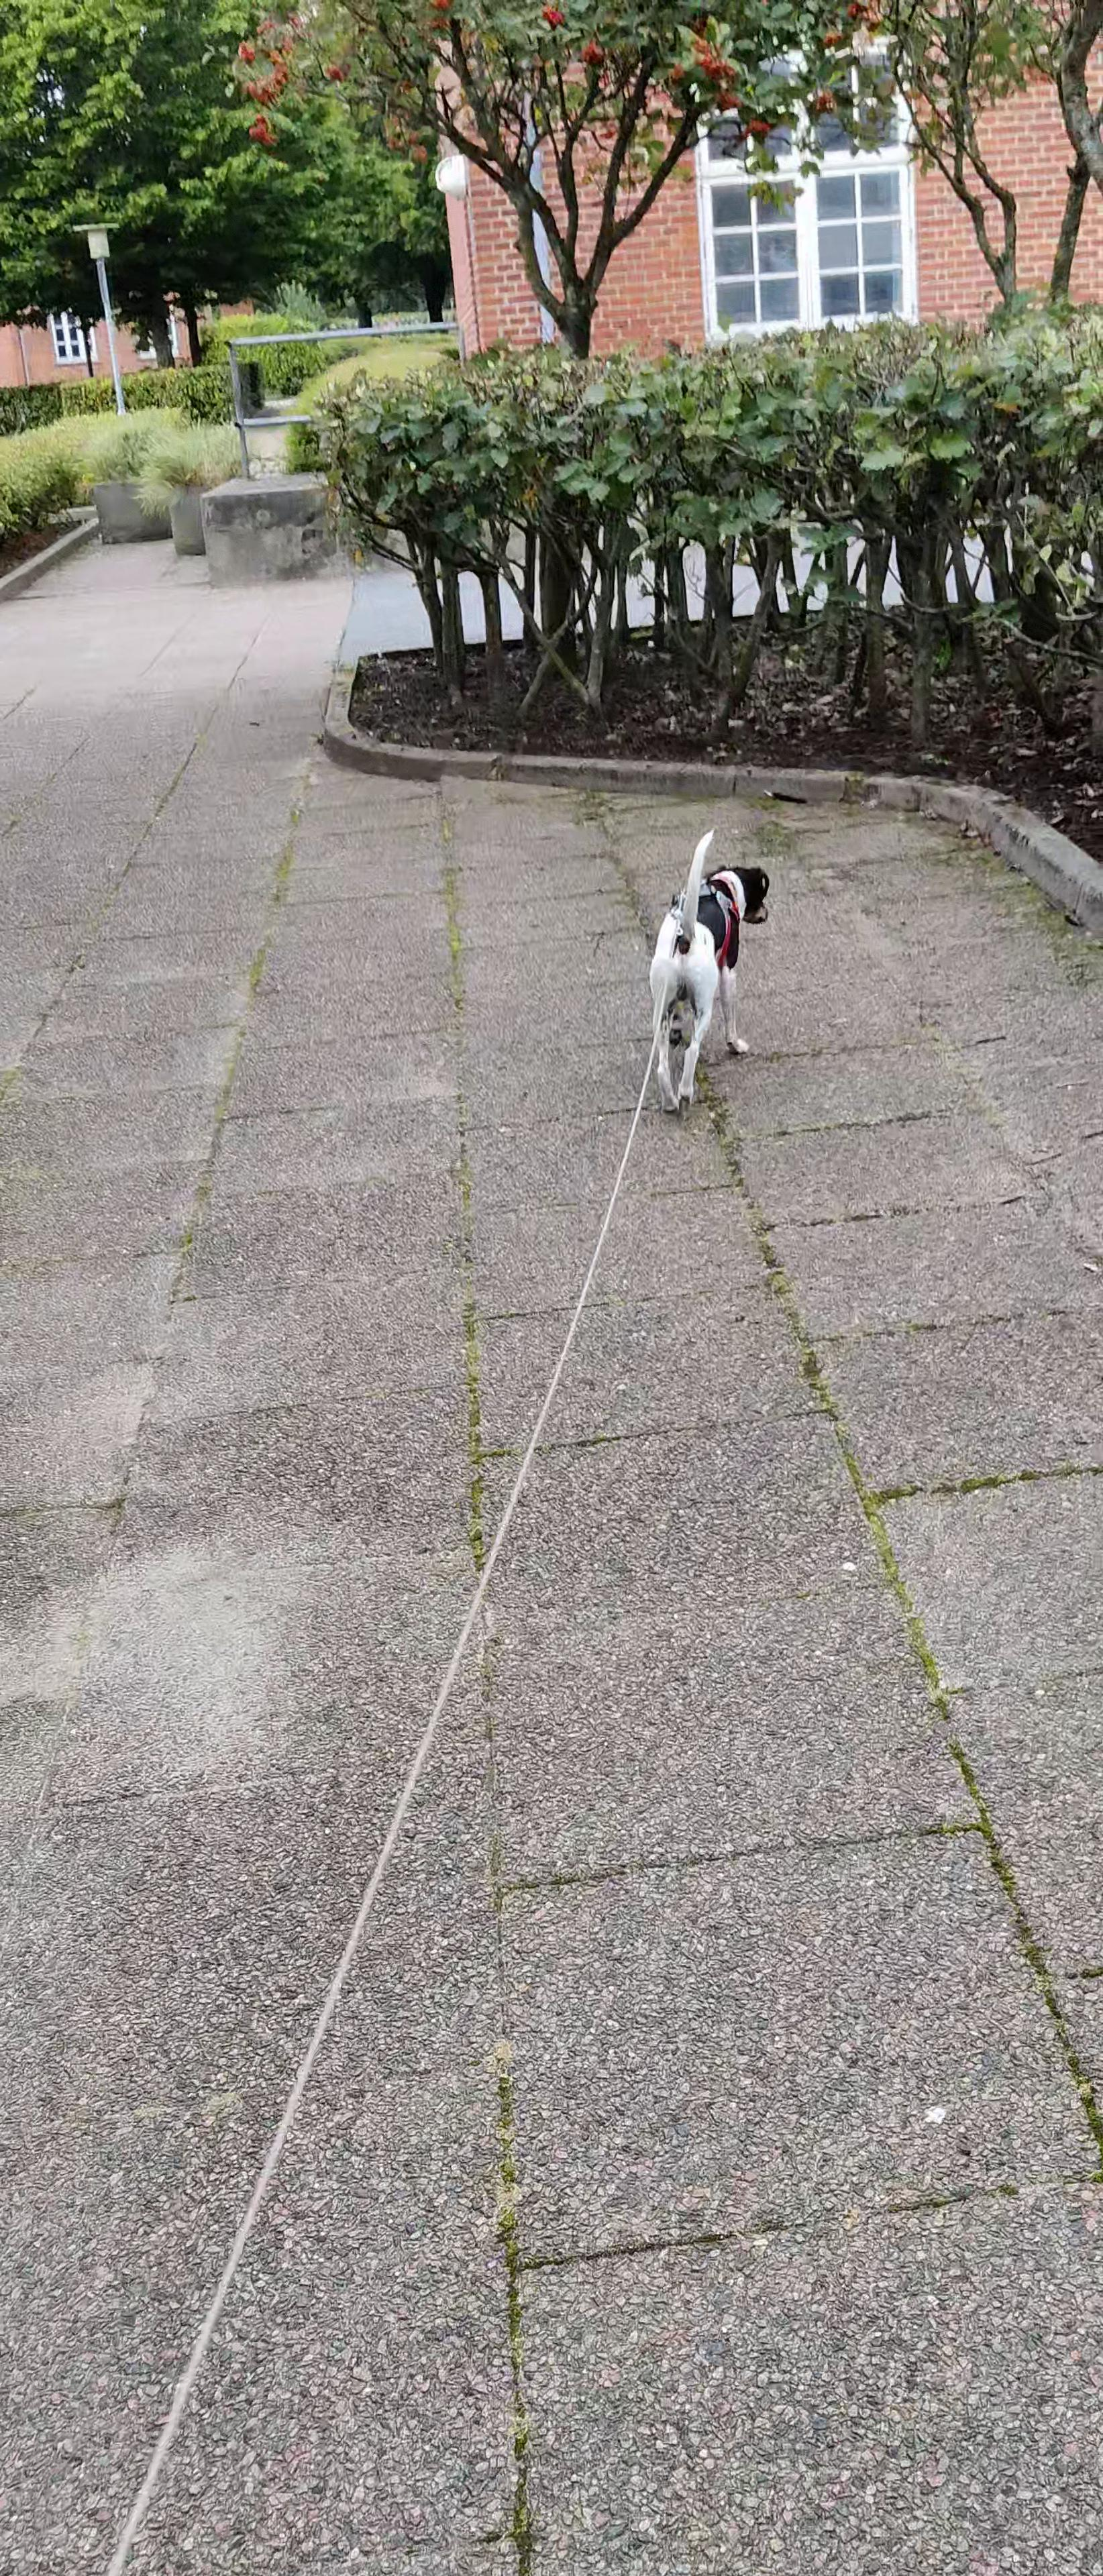Dog: (638, 818, 776, 1130)
